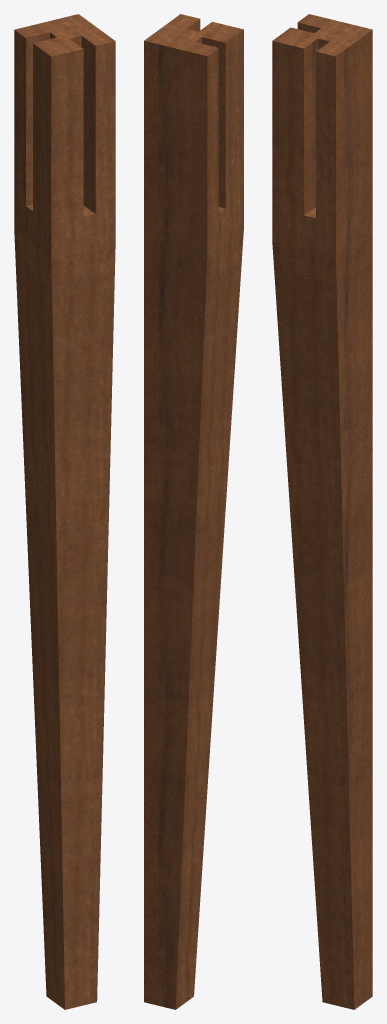
Rendered from original-41.obj.
The picture shows the model from 3 angles, left to right: view 1: azimuth 30°, elevation 25°; view 2: azimuth 150°, elevation 25°; view 3: azimuth 330°, elevation 25°; orthographic projection.
Visible parts, largest first — view 1: back_legs2/back_legs12/mesh84/mesh84-geometry#mesh84-geometry; view 2: back_legs2/back_legs12/mesh84/mesh84-geometry#mesh84-geometry; view 3: back_legs2/back_legs12/mesh84/mesh84-geometry#mesh84-geometry.
Part boxes in pixels (x1,y1,x2,y2): back_legs2/back_legs12/mesh84/mesh84-geometry#mesh84-geometry: (14, 14, 115, 1009); back_legs2/back_legs12/mesh84/mesh84-geometry#mesh84-geometry: (144, 14, 243, 1009); back_legs2/back_legs12/mesh84/mesh84-geometry#mesh84-geometry: (272, 14, 372, 1009).
Bounding box in the file's own units: 0.0763 × 1.11 × 0.0763.
